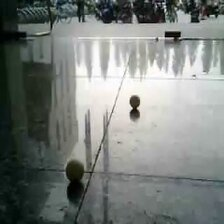w: (64, 159, 85, 182), (128, 94, 141, 109)
